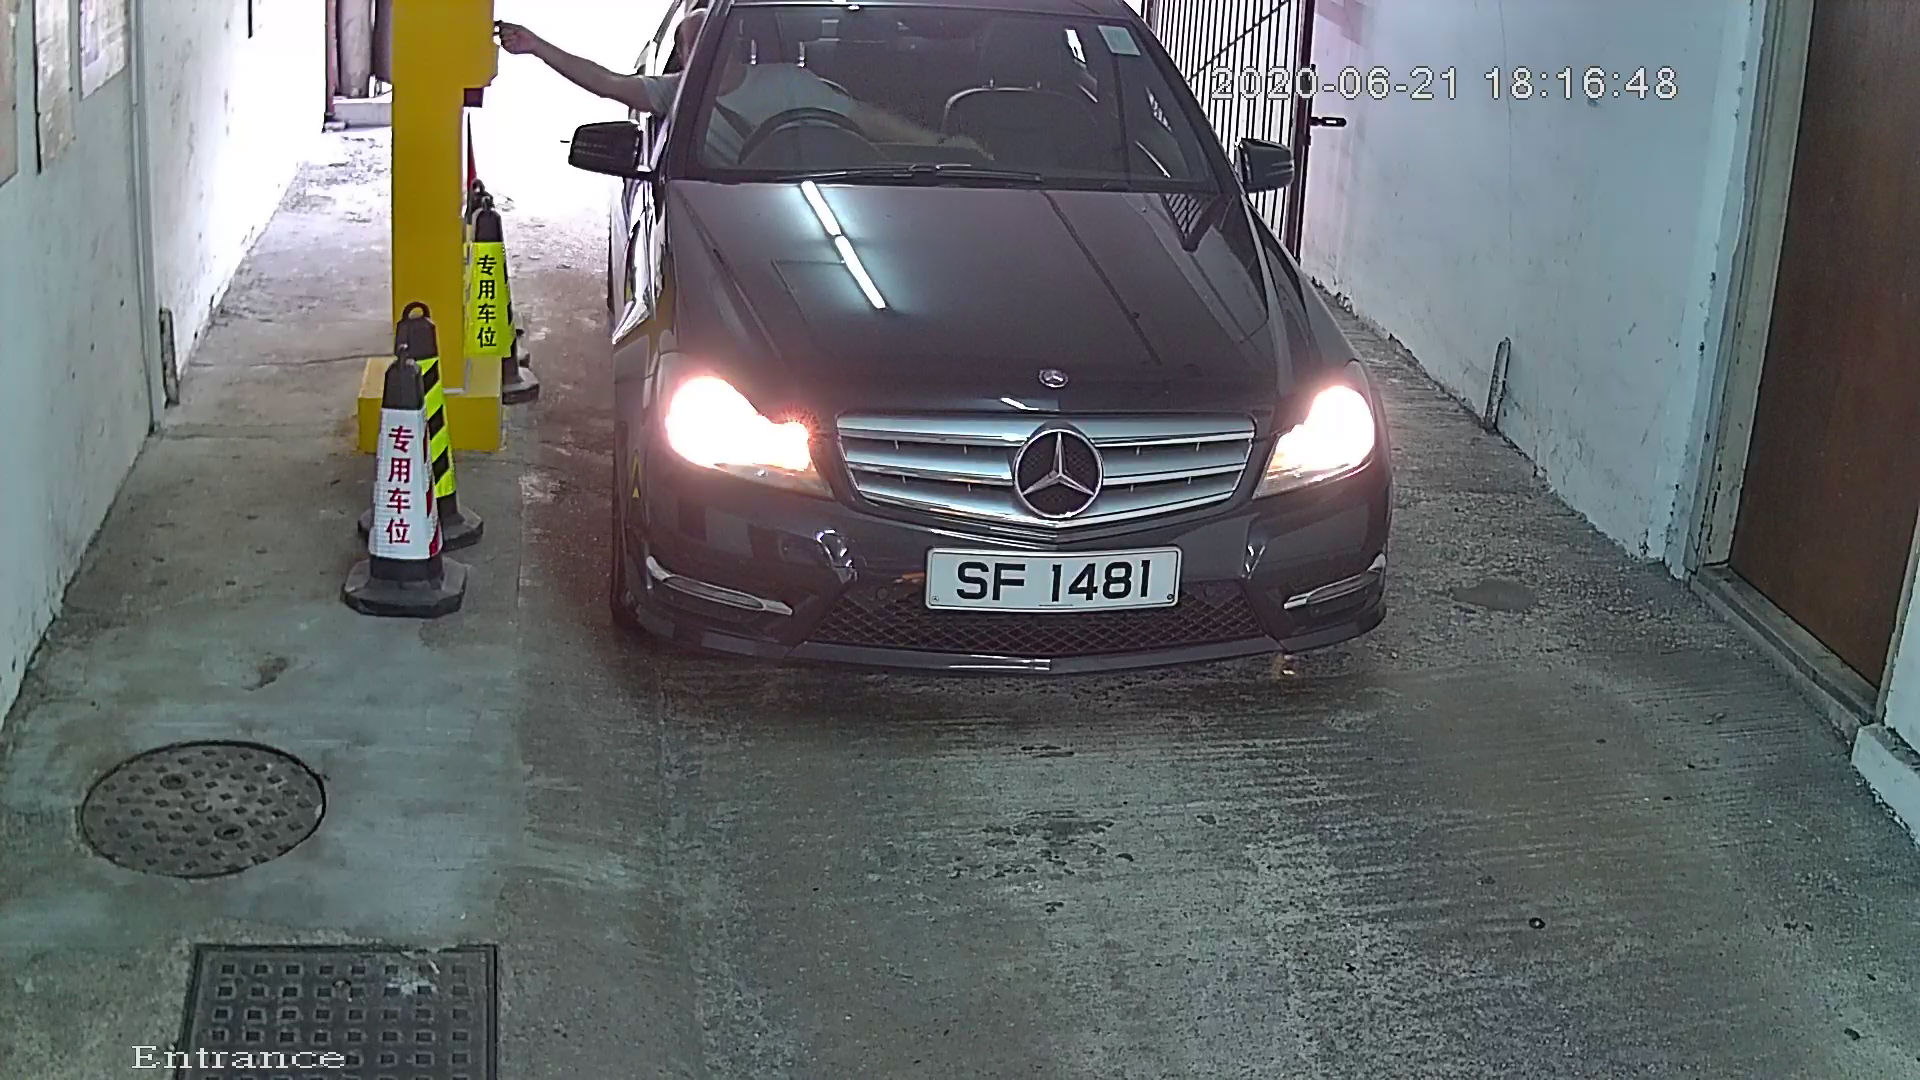privatecar: (513, 3, 1439, 731)
